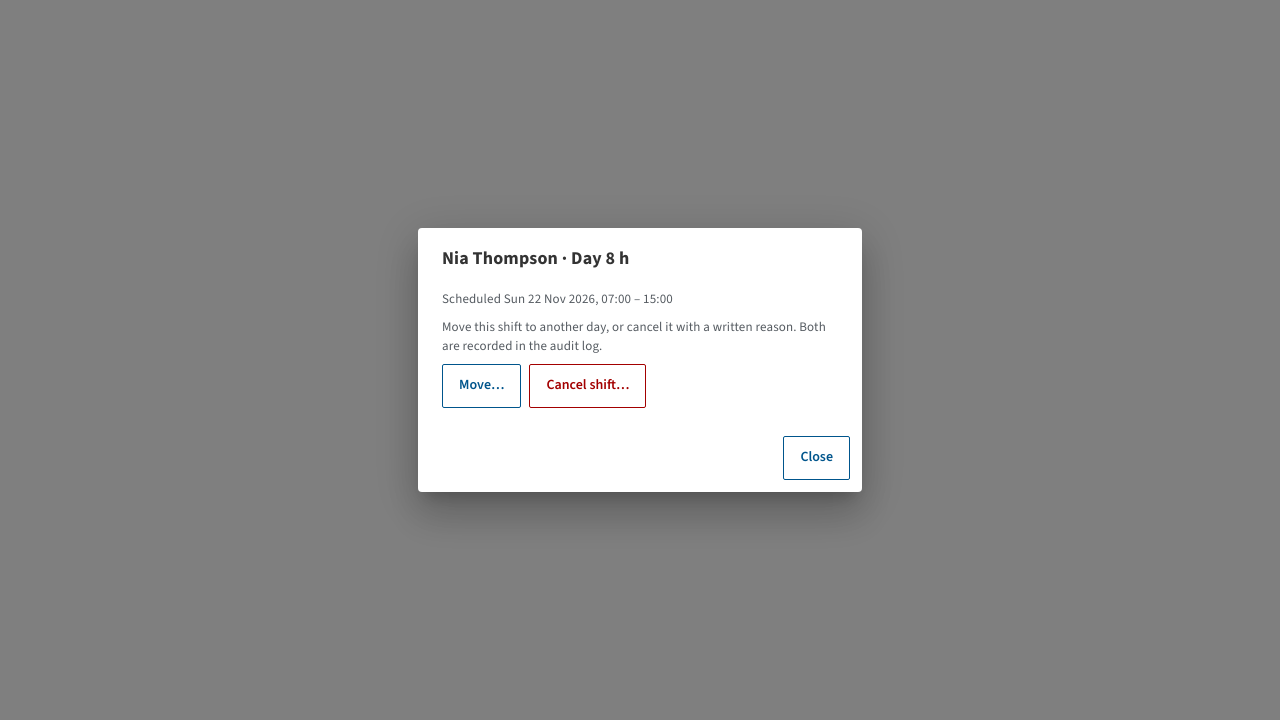
Scenario: the safeguards on a move › shows the title and detail when the api refuses the move (pay-period-locked)
Click the button "Move…".
click(482, 386)  # box [442,364,522,408]
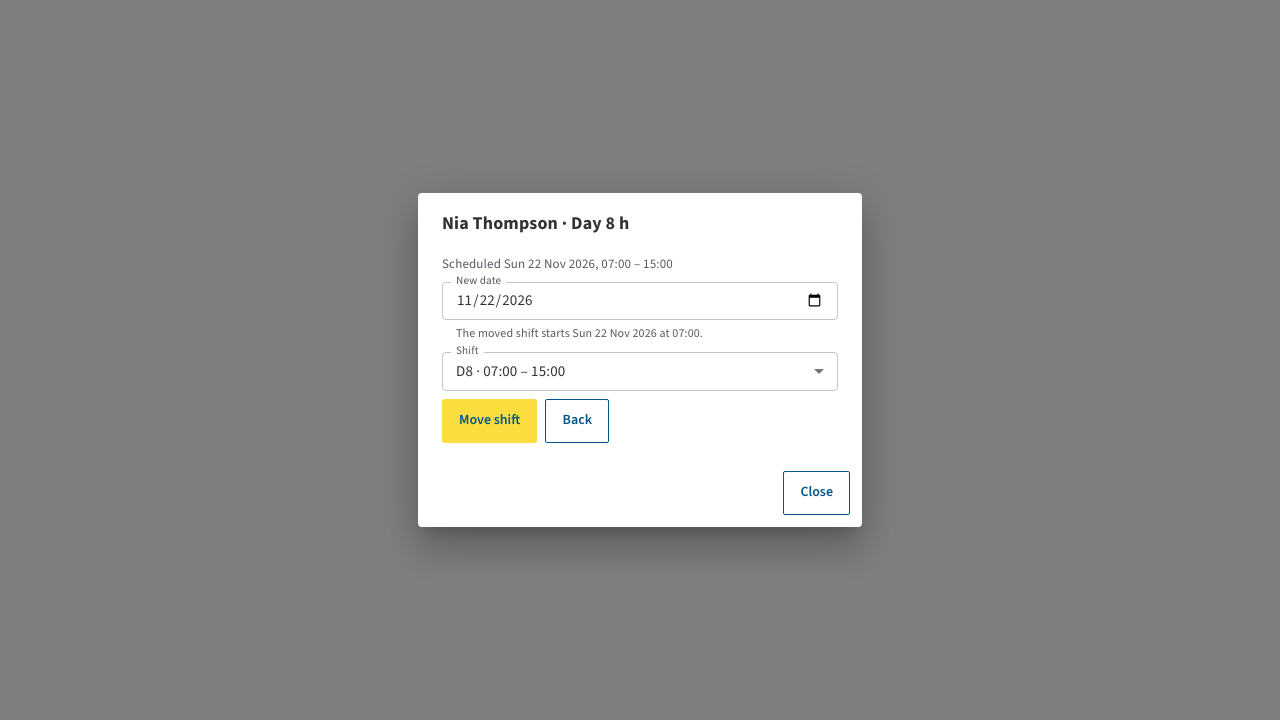
Click the button "Move shift".
click(490, 421)  # box [442,399,537,443]
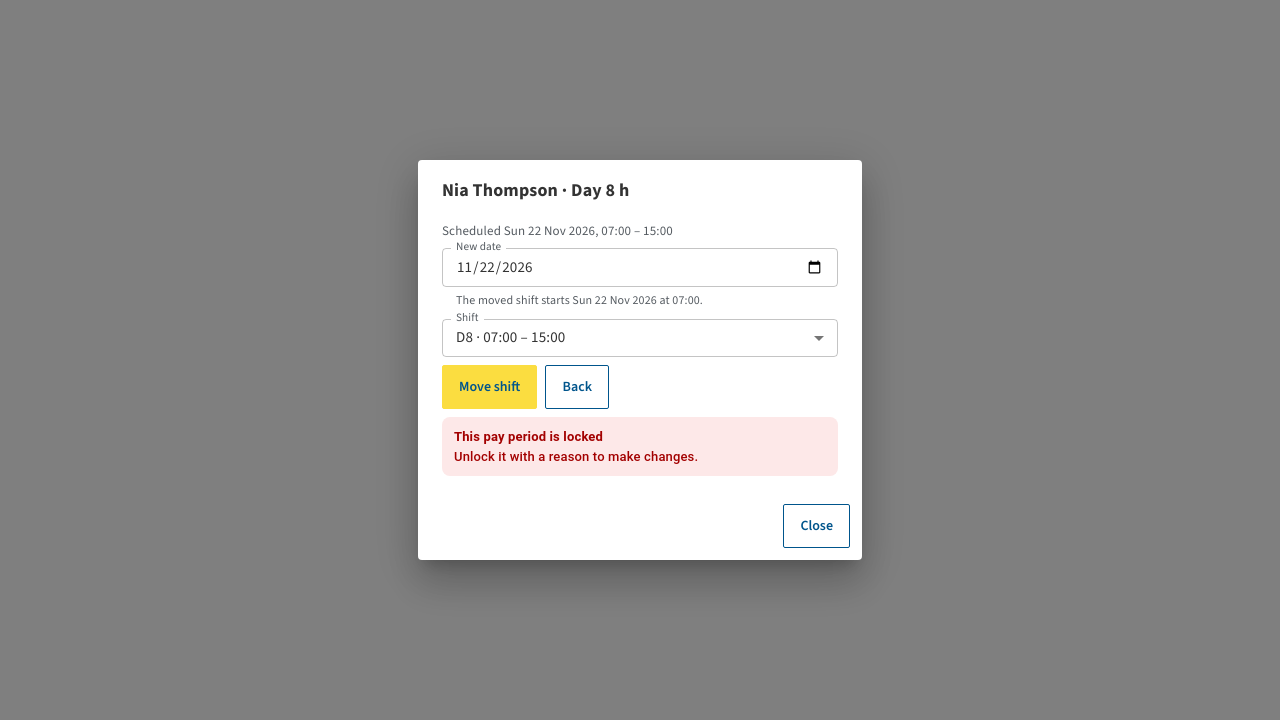
Result: the text "This pay period is locked" is shown at [454,429,603,444]
Result: the text "Unlock it with a reason to make changes." is shown at [454,449,698,464]
